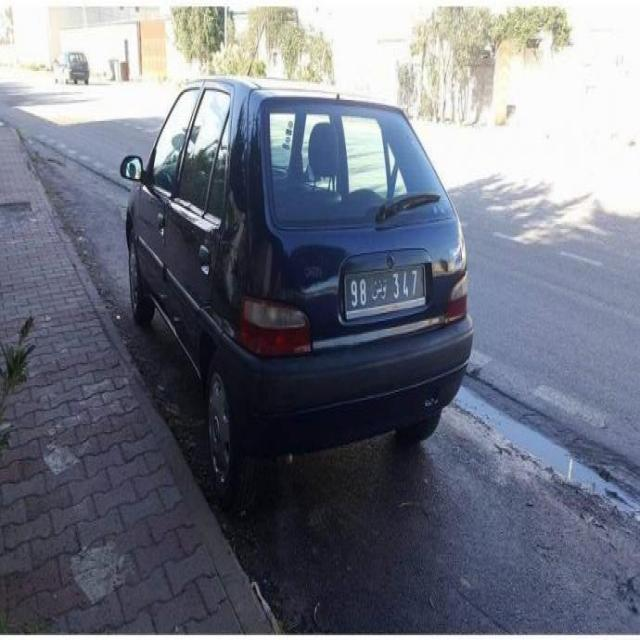LP: (339, 264, 437, 313)
